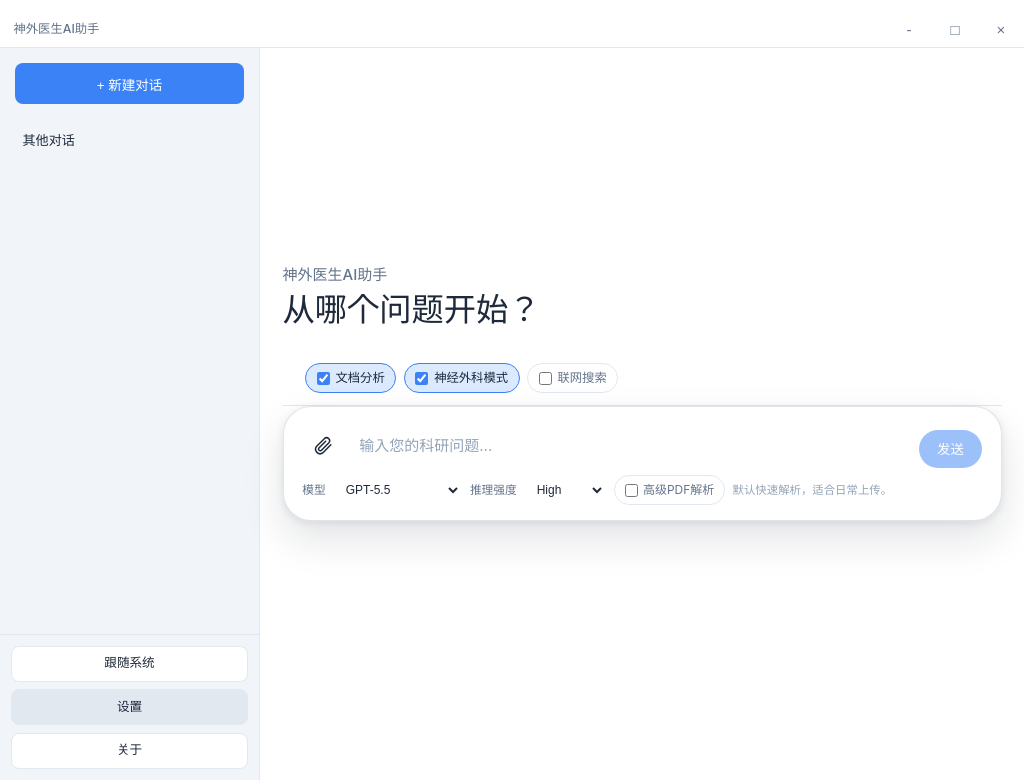
App settings controls › keeps streaming output with the originating chat when switching away and back
This screenshot has width=1036, height=780.
Type "胶质母细胞瘤复发治疗进展" into the text box with placeholder "输入您的科研问题..." at (632, 446), box [352,424,912,468]
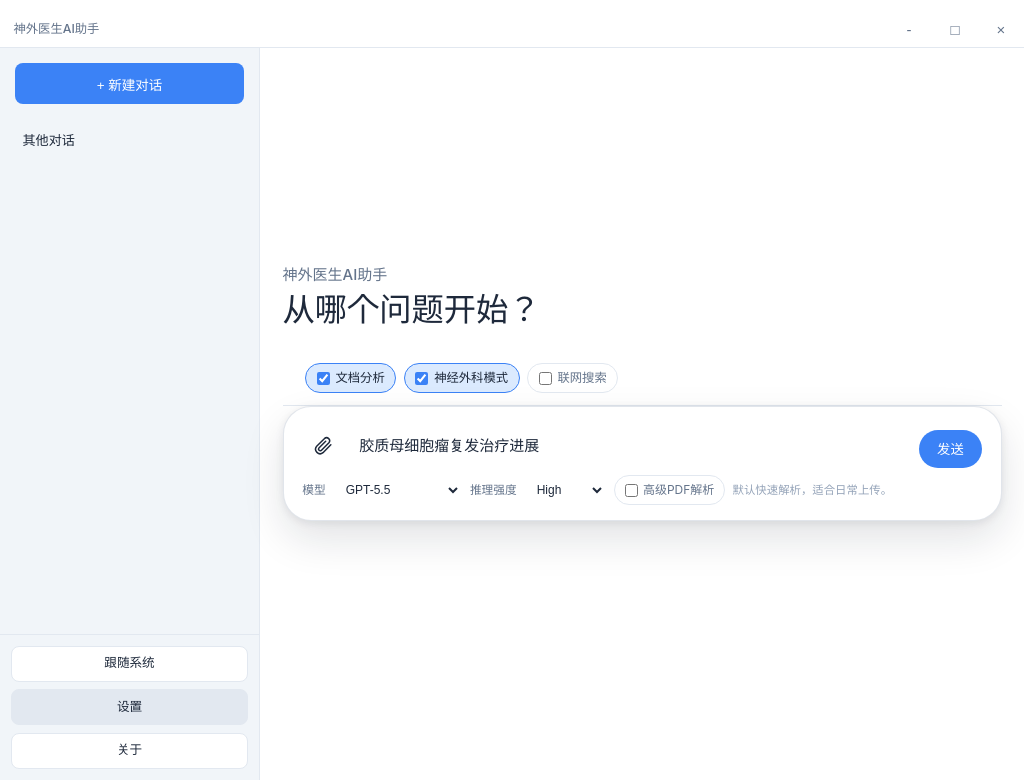
Click the button "发送" at (950, 449), box [919,430,982,468]
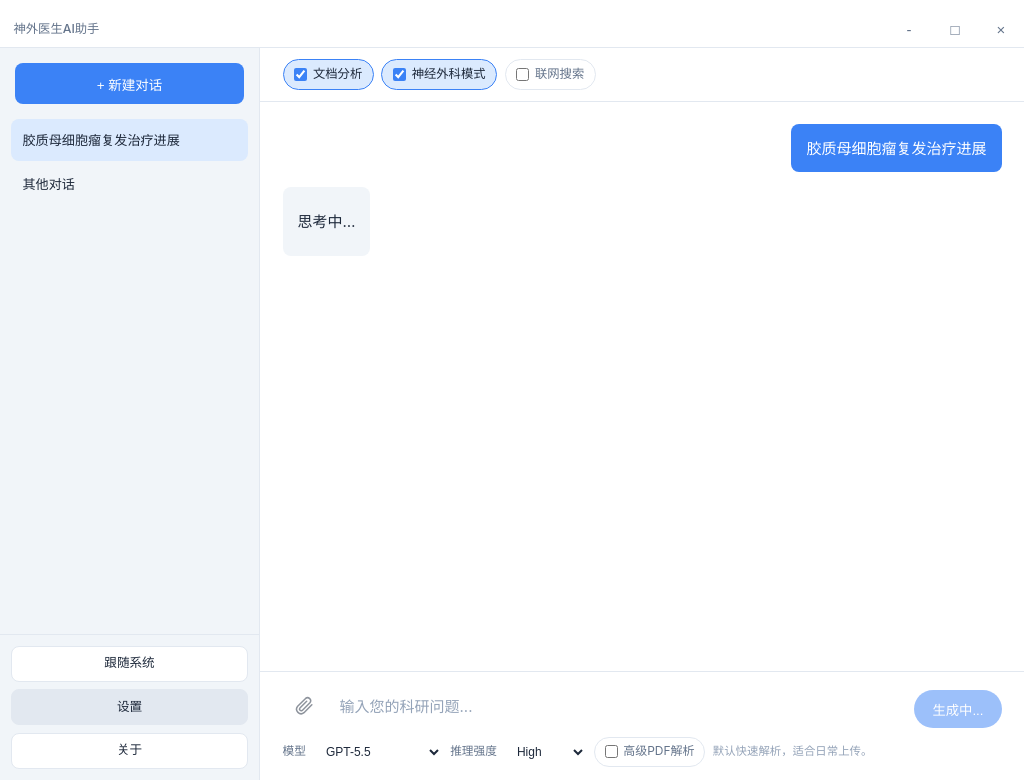
Click the text "其他对话" at (49, 184), box [22,173,75,195]
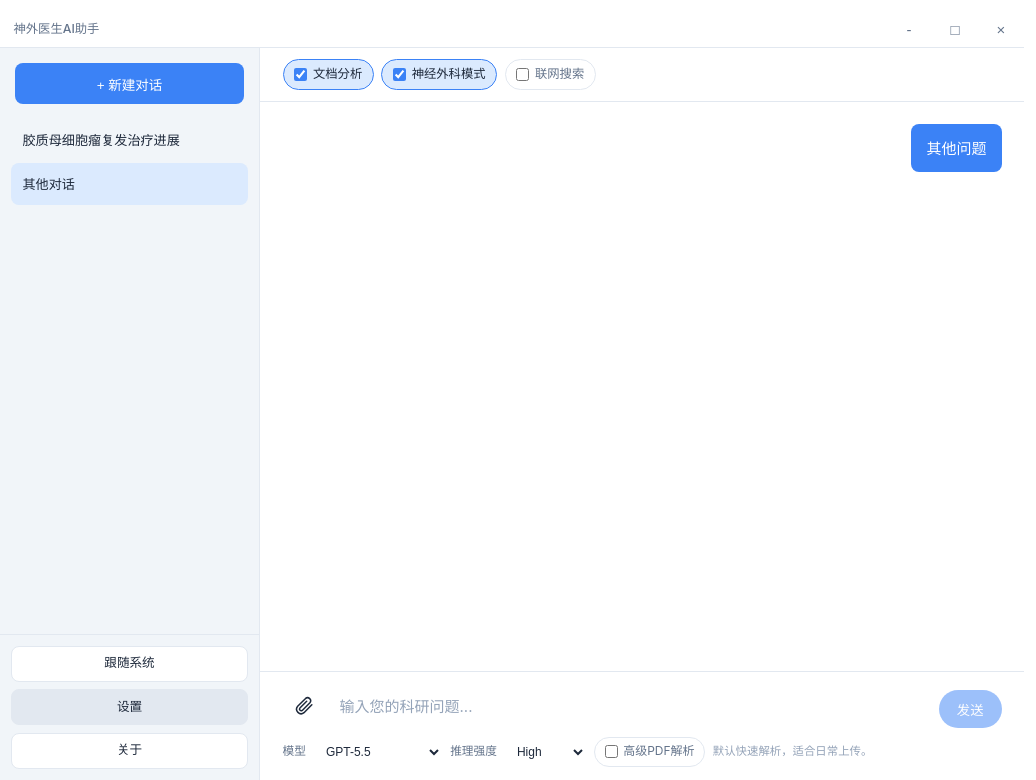
Expected: the text "其他问题" is shown, [912,124,1002,172]
Click the text "胶质母细胞瘤复发治疗进展" at (101, 140), box [22,129,180,151]
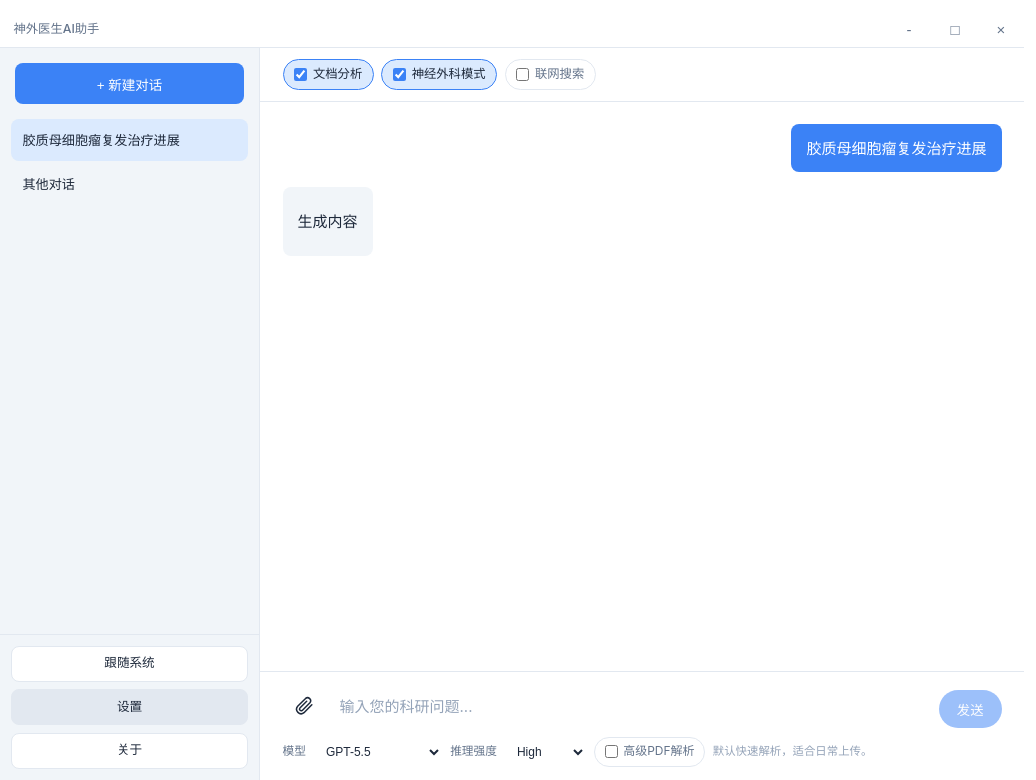
Expected: the text "生成内容" is shown, [298,209,358,235]
